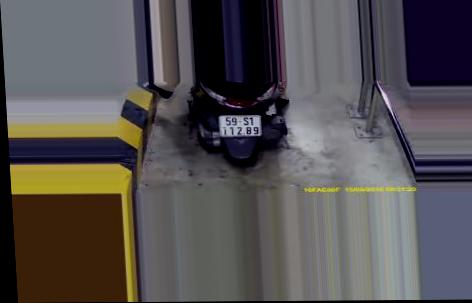License_Plate: (214, 111, 265, 141)
